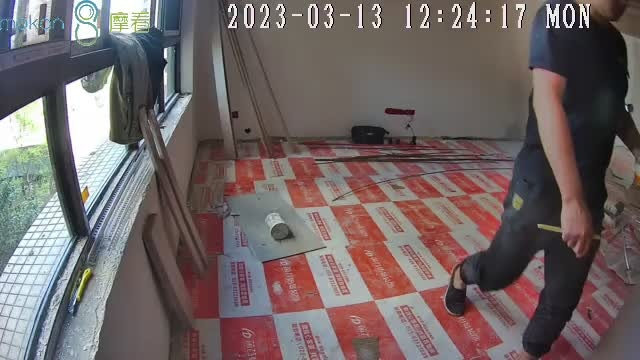people: (442, 1, 637, 360)
window: (1, 1, 185, 360)
